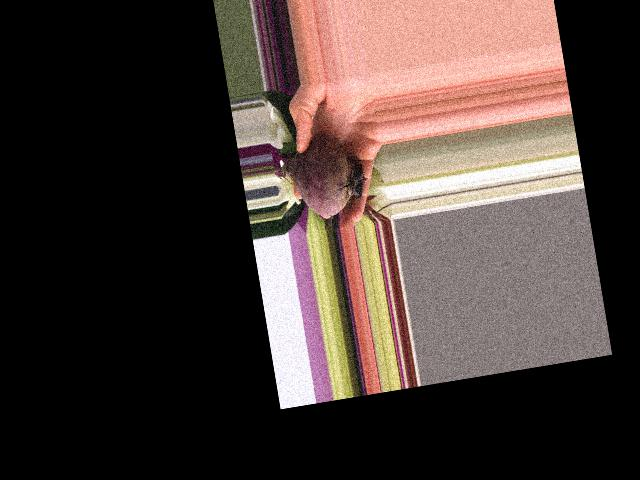beet: (270, 131, 372, 224)
